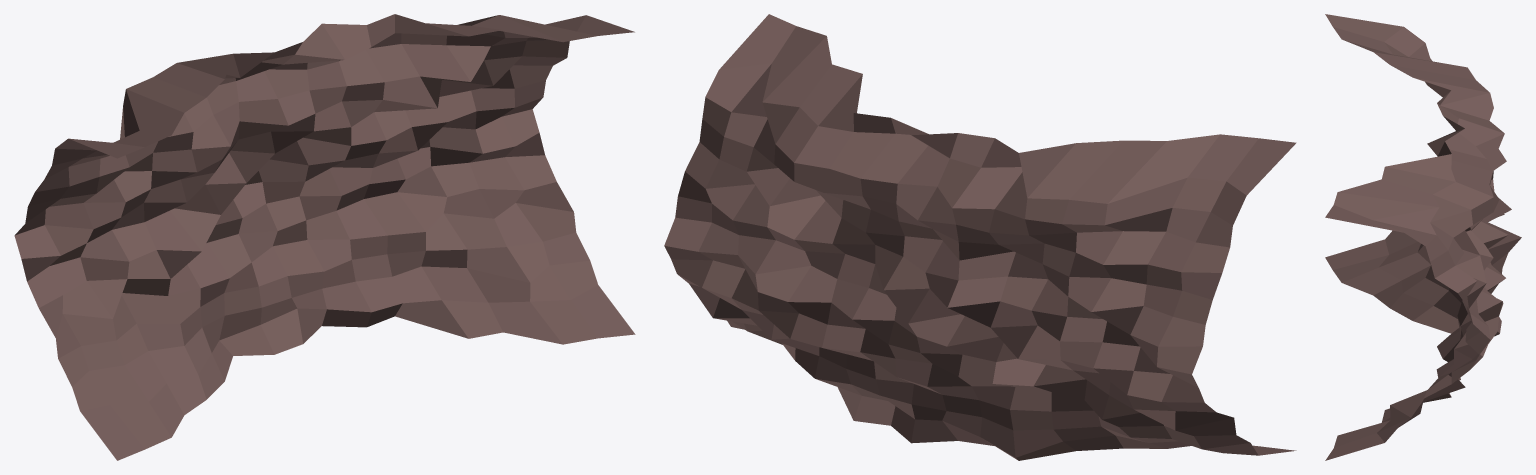
The model's file is Cave Wall - All Open.fbx.
The picture shows the model from 3 angles, left to right: view 1: azimuth 30°, elevation 25°; view 2: azimuth 150°, elevation 25°; view 3: azimuth 270°, elevation 25°; orthographic projection. The views are drawn at different scales.
Visible parts, largest first — view 1: Plane.003; view 2: Plane.003; view 3: Plane.003.
Part boxes in pixels (box(x1,y1,x2,y2)): Plane.003: box(14, 14, 635, 460); Plane.003: box(664, 14, 1296, 460); Plane.003: box(1325, 14, 1521, 460).
Size of the model in its own units: 3317 by 1850 by 1356.
